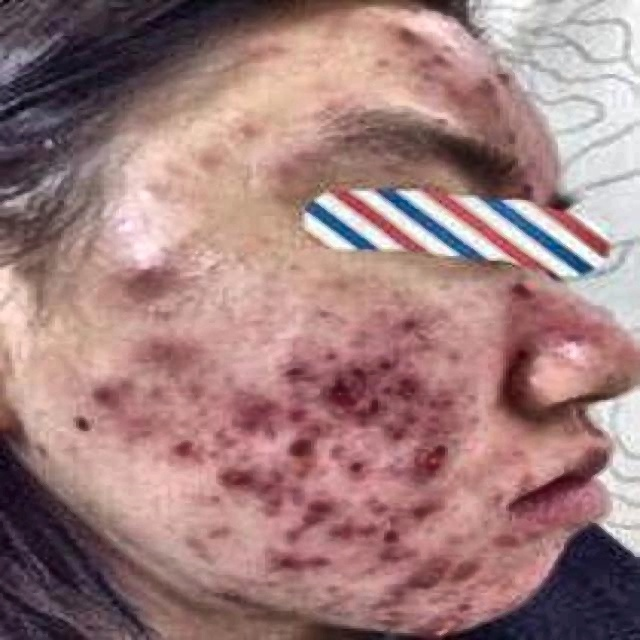nodule: (402, 438, 476, 471), (119, 256, 180, 294), (80, 380, 146, 413), (554, 323, 604, 364), (210, 568, 247, 622), (225, 400, 278, 436), (296, 478, 335, 524), (256, 541, 305, 575), (110, 411, 174, 436), (335, 395, 384, 427), (220, 458, 265, 492), (137, 337, 183, 370), (362, 314, 436, 334), (414, 550, 478, 573), (317, 364, 363, 395), (454, 550, 491, 588), (177, 530, 213, 568), (356, 485, 406, 512), (445, 395, 494, 422), (430, 339, 475, 368), (168, 370, 207, 402), (393, 378, 436, 407), (159, 433, 195, 467), (475, 480, 515, 510), (271, 432, 311, 461), (338, 510, 375, 541), (436, 600, 475, 628), (363, 577, 402, 604), (436, 521, 472, 550), (347, 438, 378, 471), (274, 350, 308, 380), (192, 480, 226, 510), (411, 483, 439, 519), (500, 274, 539, 299), (384, 534, 414, 566), (250, 496, 283, 524), (396, 402, 421, 438), (271, 472, 302, 501), (479, 525, 518, 548), (232, 106, 262, 134), (277, 400, 314, 422), (424, 40, 451, 70), (366, 611, 396, 638), (311, 339, 341, 366), (308, 301, 344, 323), (198, 519, 232, 541), (372, 518, 411, 536), (439, 85, 469, 108), (372, 346, 402, 368), (308, 548, 332, 570), (268, 157, 293, 175), (320, 577, 341, 595), (332, 591, 357, 606)
